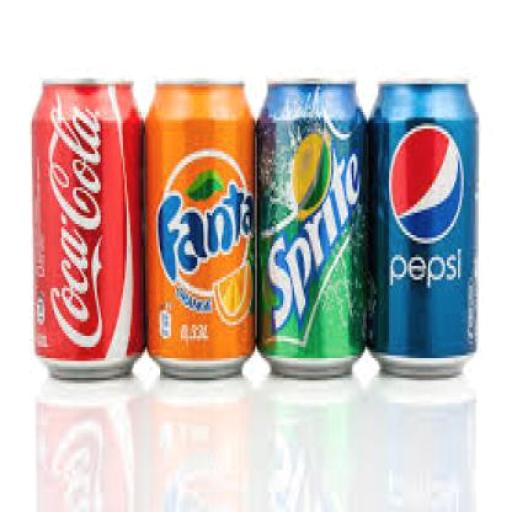metal: (30, 78, 144, 381), (365, 76, 477, 381), (254, 78, 366, 381), (142, 75, 254, 378)
